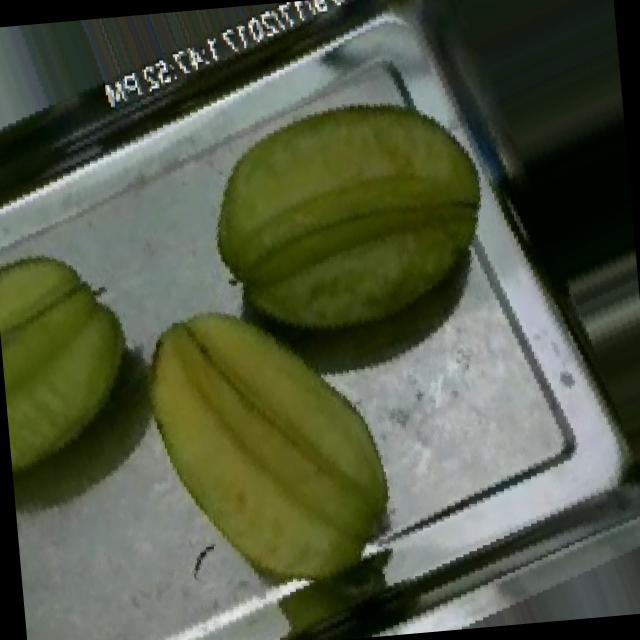fruit: (146, 50, 530, 402), (92, 261, 432, 638), (0, 220, 177, 521)
